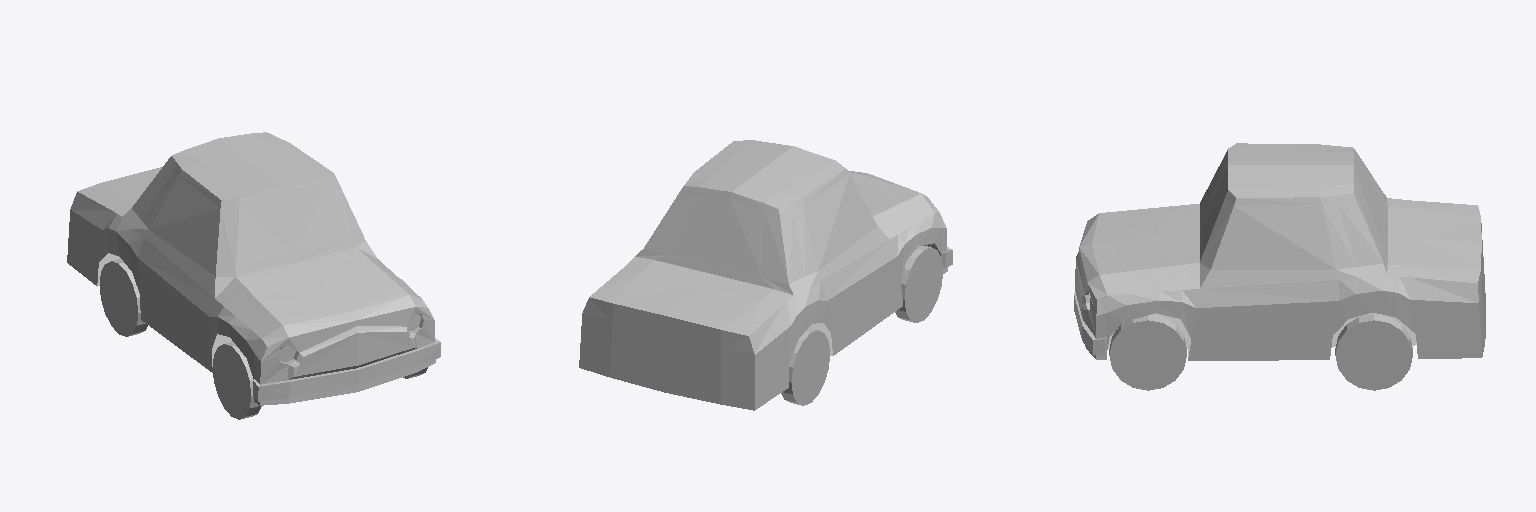
Rendered from Radcar.obj.
3 views of the same model, side by side, from view 1: azimuth 30°, elevation 25°; view 2: azimuth 150°, elevation 25°; view 3: azimuth 270°, elevation 25° (orthographic).
Parts seen in each view (by area): view 1: Cube; view 2: Cube; view 3: Cube.
Boxes of the visible parts, x1=… form: Cube: x1=67, y1=132, x2=440, y2=419; Cube: x1=579, y1=140, x2=952, y2=410; Cube: x1=1074, y1=143, x2=1485, y2=390.
Size of the model in its own units: 2 by 1.91 by 3.92.